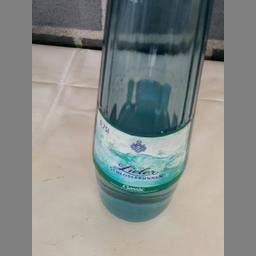water: (90, 0, 212, 222)
